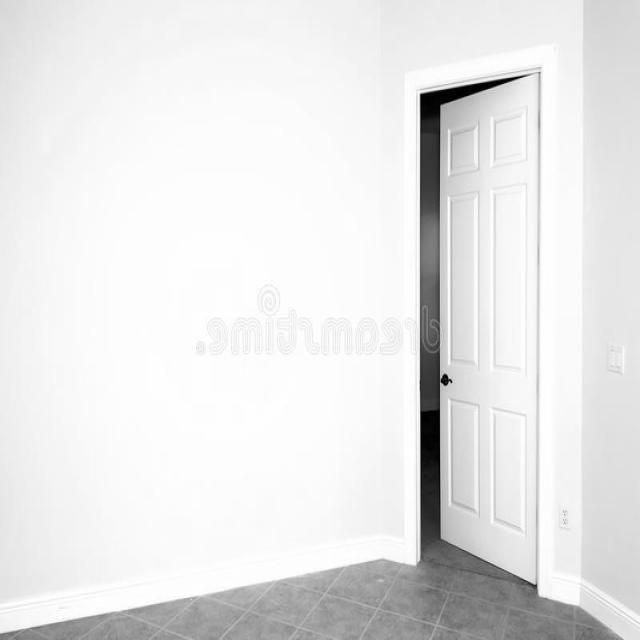door: (409, 35, 561, 609)
